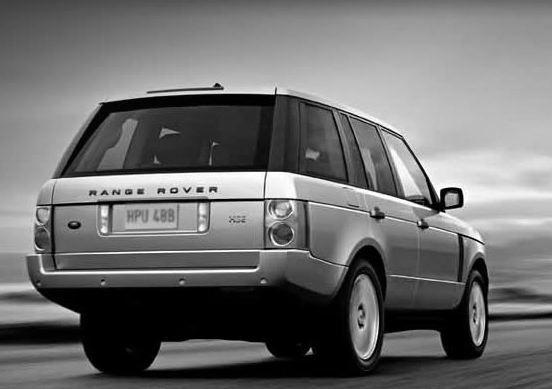car: (27, 84, 492, 375)
